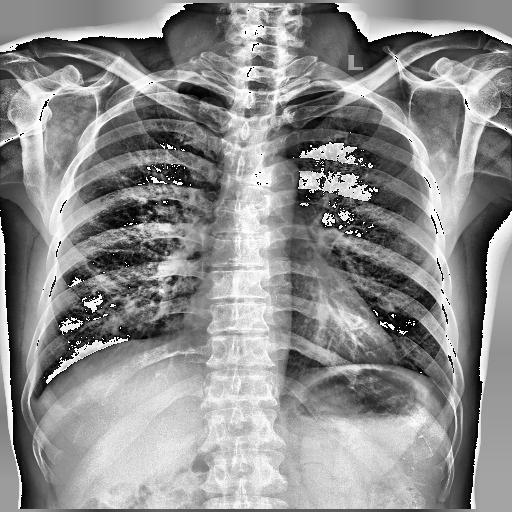10- Pleural effusion: (428, 382, 453, 418), (25, 380, 45, 410), (22, 388, 45, 409)
11- Pleural thickening: (428, 382, 453, 418), (25, 380, 45, 410), (22, 388, 45, 409)
5- ILD: (91, 196, 204, 328), (346, 208, 420, 302)
